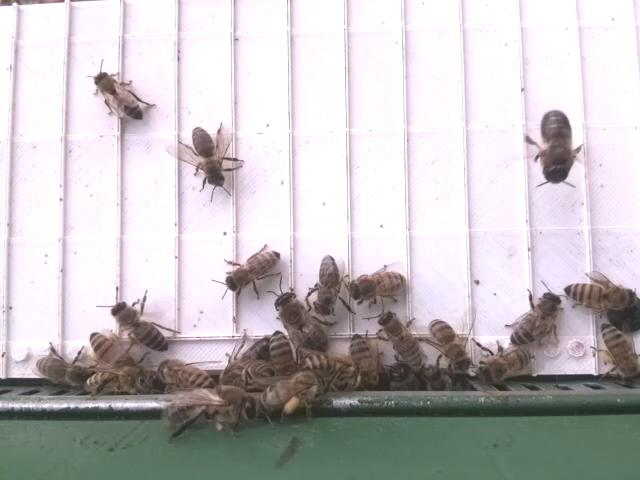Drone: (273, 289, 335, 354), (534, 106, 579, 188)
Worker: (107, 296, 174, 356), (218, 244, 287, 300), (418, 316, 481, 373), (376, 308, 428, 375), (508, 290, 566, 348), (591, 319, 640, 386), (90, 69, 149, 124), (186, 124, 231, 193), (349, 261, 413, 308), (560, 277, 640, 314), (476, 338, 536, 386), (33, 352, 96, 391), (310, 249, 344, 321), (156, 356, 219, 391)
